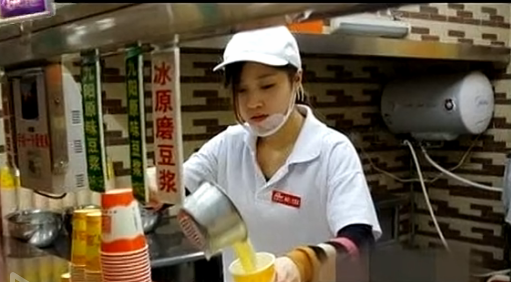face: (231, 60, 297, 133)
